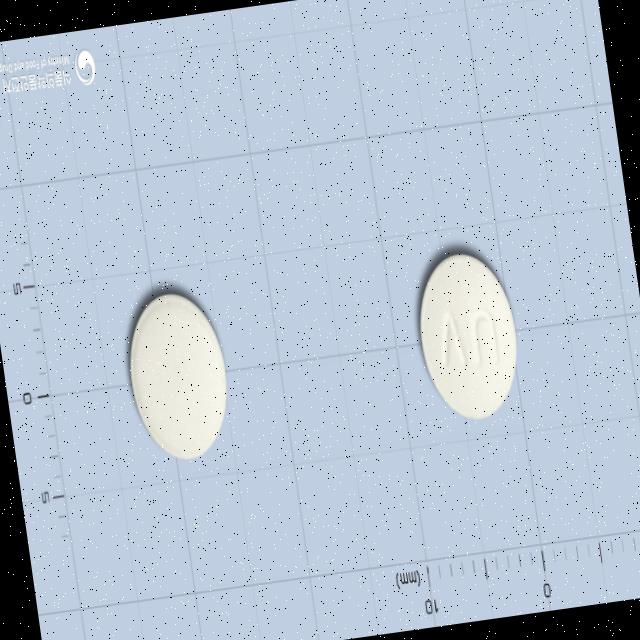Unilevo Tab: (408, 247, 528, 428)
